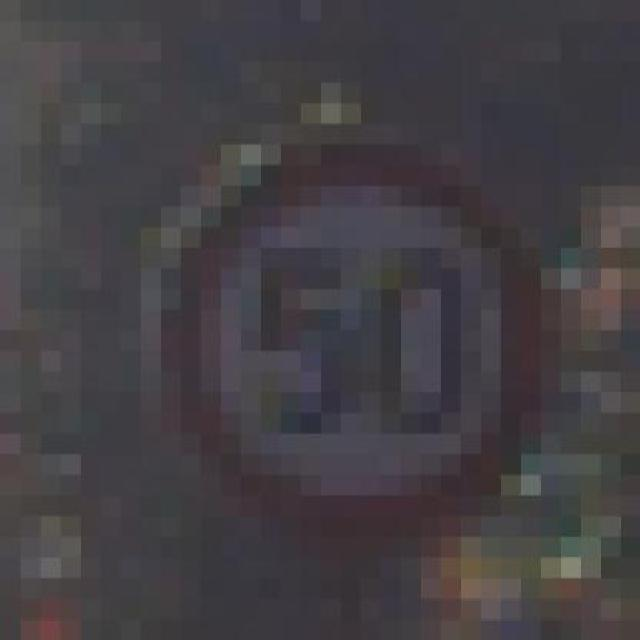50 mph speed limit: (140, 124, 560, 558)
